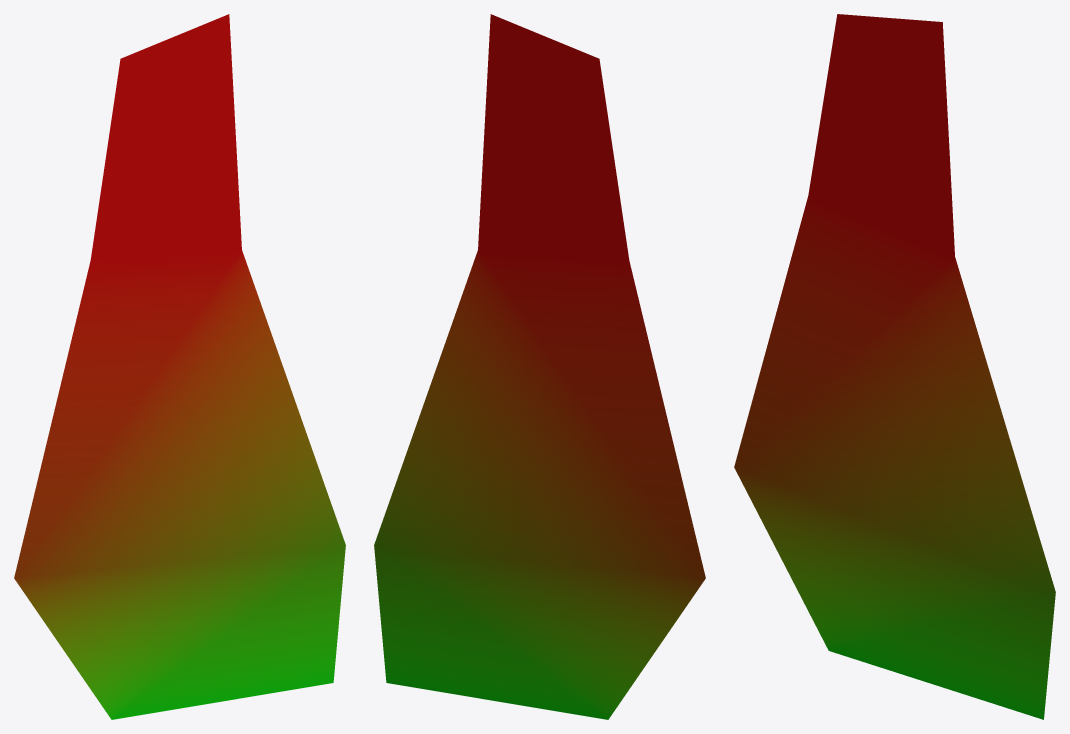
Rendered from Sowthistle_LOD4_Var4_tgdqciyr.fbx.
3 views of the same model, side by side, from view 1: azimuth 30°, elevation 25°; view 2: azimuth 150°, elevation 25°; view 3: azimuth 330°, elevation 25° (orthographic). The views are drawn at different scales.
Visible parts, largest first — view 1: _a558_Var4_LOD4; view 2: _a558_Var4_LOD4; view 3: _a558_Var4_LOD4.
Part boxes in pixels (<box>): _a558_Var4_LOD4: <box>14,14,345,719</box>; _a558_Var4_LOD4: <box>374,14,705,719</box>; _a558_Var4_LOD4: <box>734,14,1055,719</box>.
Bounding box in the file's own units: 49.94 × 99.85 × 3.59e-05.
